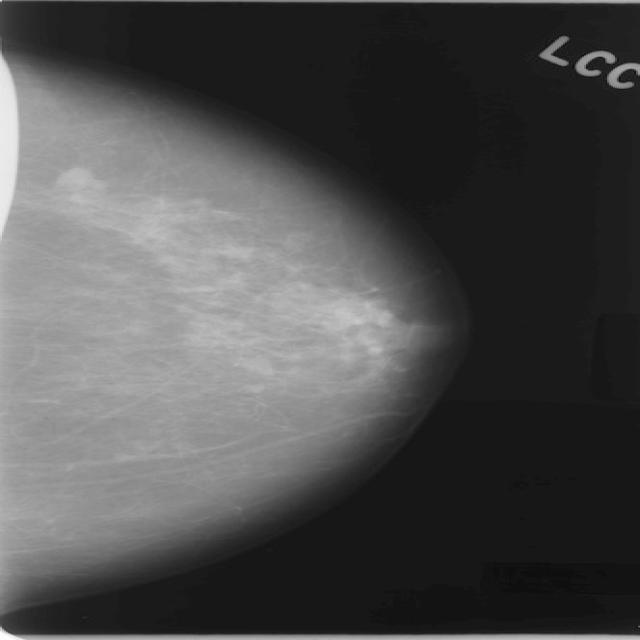tumour: (54, 164, 102, 202)
